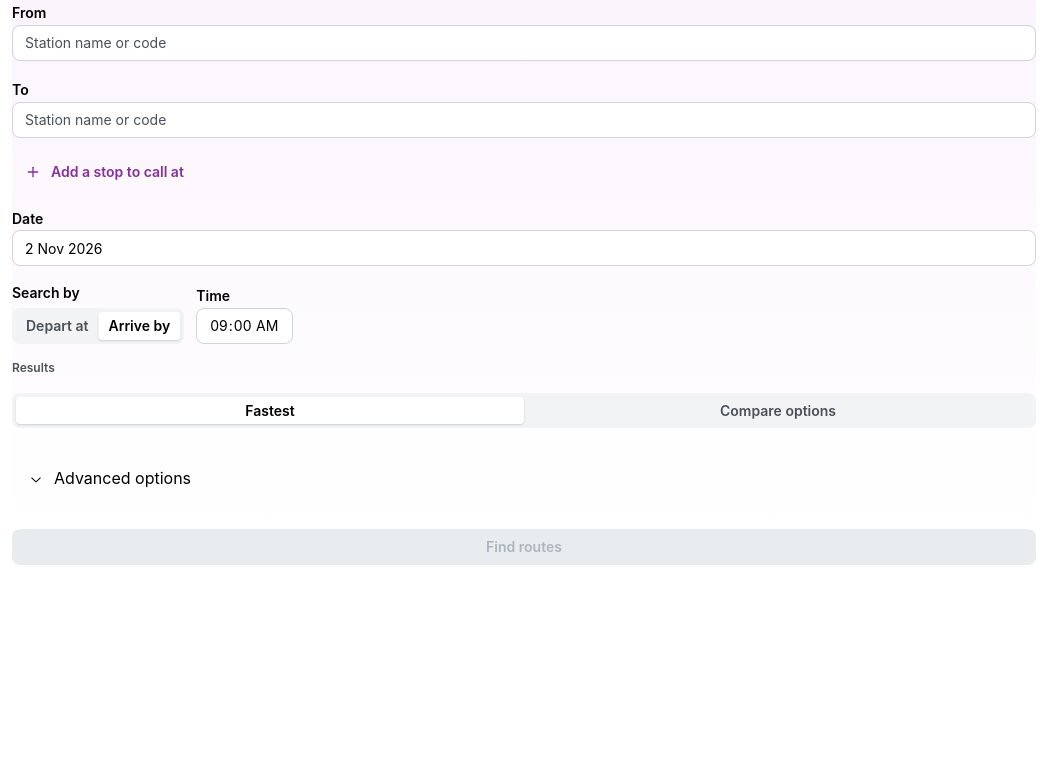
Test case: PlanTripForm › Depart at / Arrive by (2026-10-19) › needs a time to search by arrival
Type "EUS" into the dropdown labelled "From" at (524, 43), box [12,25,1036,61]
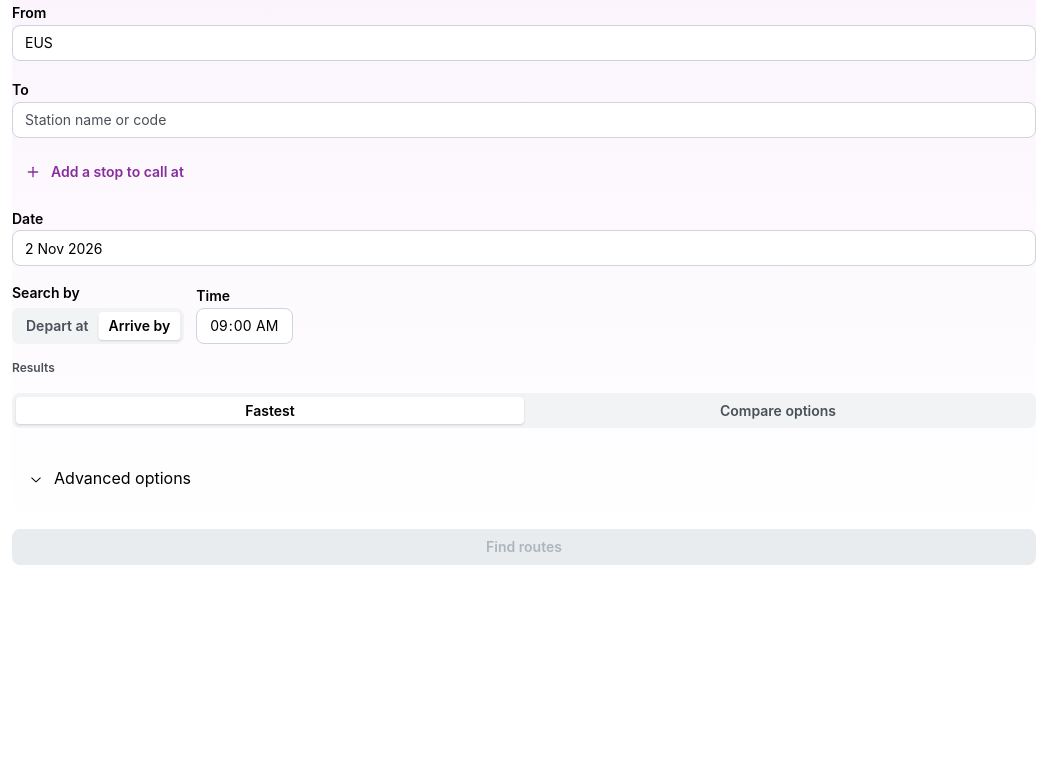
Type "MKC" into the dropdown labelled "To" at (524, 120), box [12,102,1036,138]
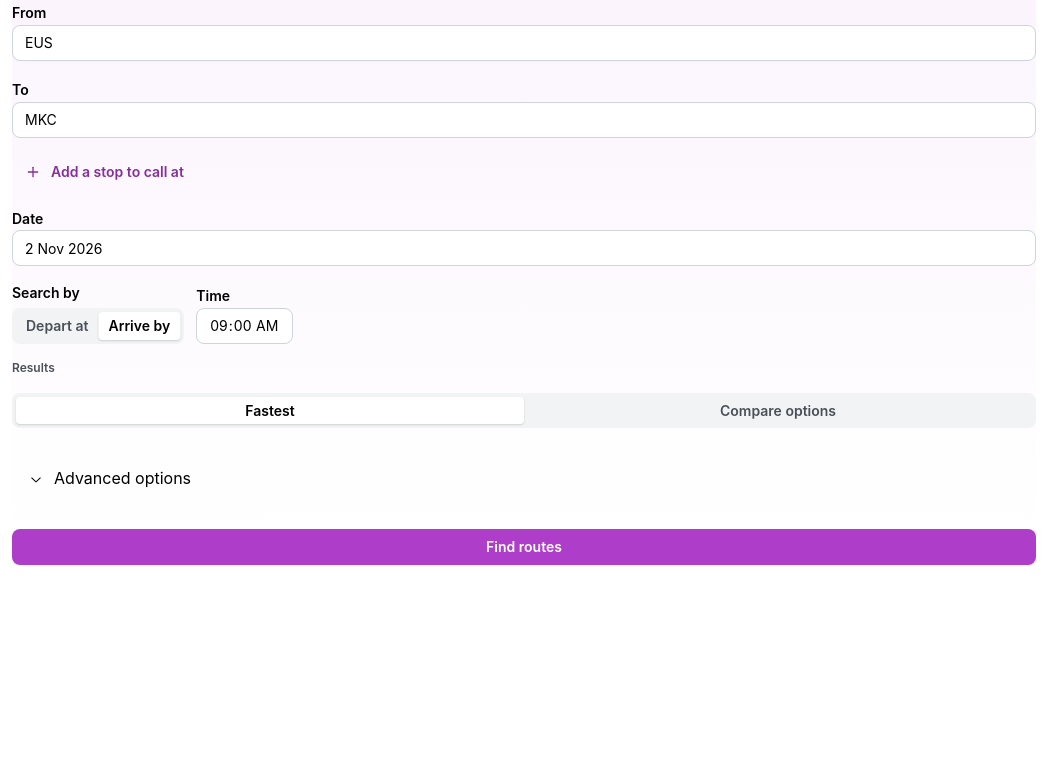
Clear the time field labelled "Time" at (245, 326), box [196,308,293,344]
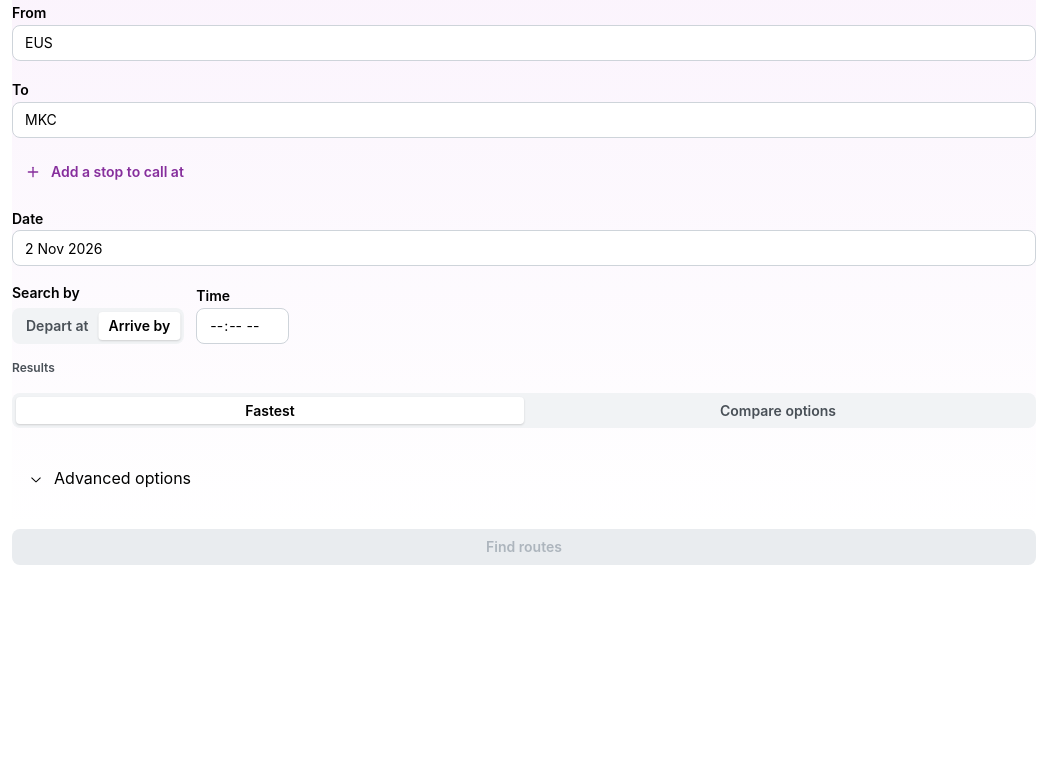
Check: the button "Find routes" is disabled, box [12,529,1036,565]
Click the radio button labelled "Depart at" at (57, 326), box [26,317,89,334]
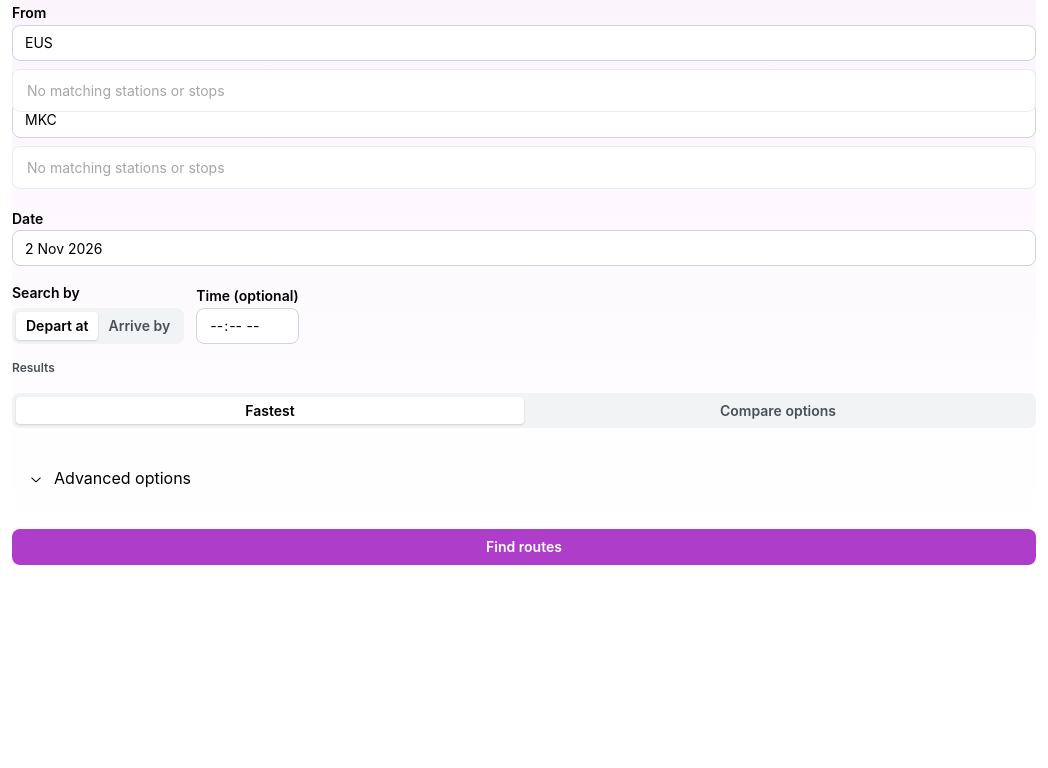
Check: the button "Find routes" is enabled, box [12,529,1036,565]
